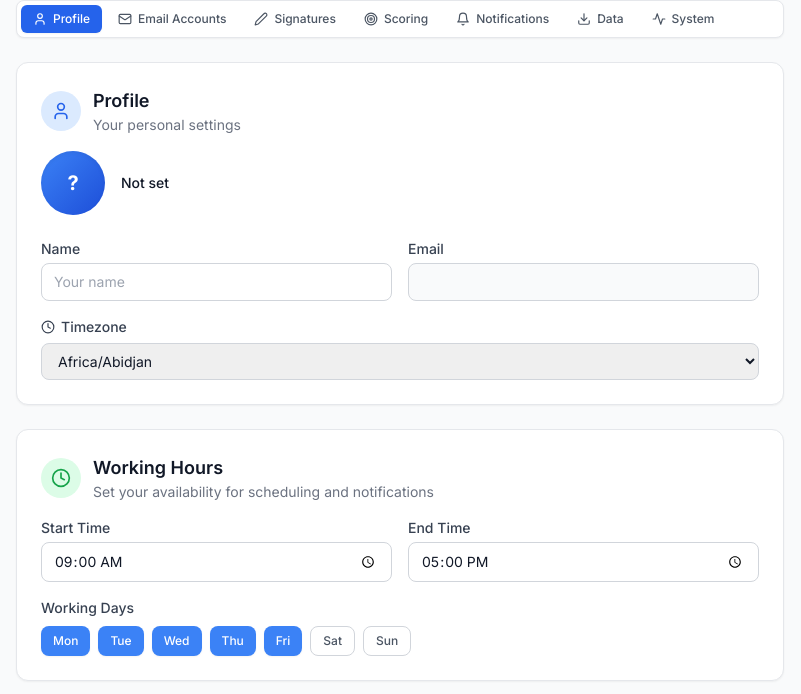
Test: Settings → Automation › renders each behaviour the server reported
Click the button "Data".
click(600, 19)  # box top-left (565, 5), bottom-right (636, 33)
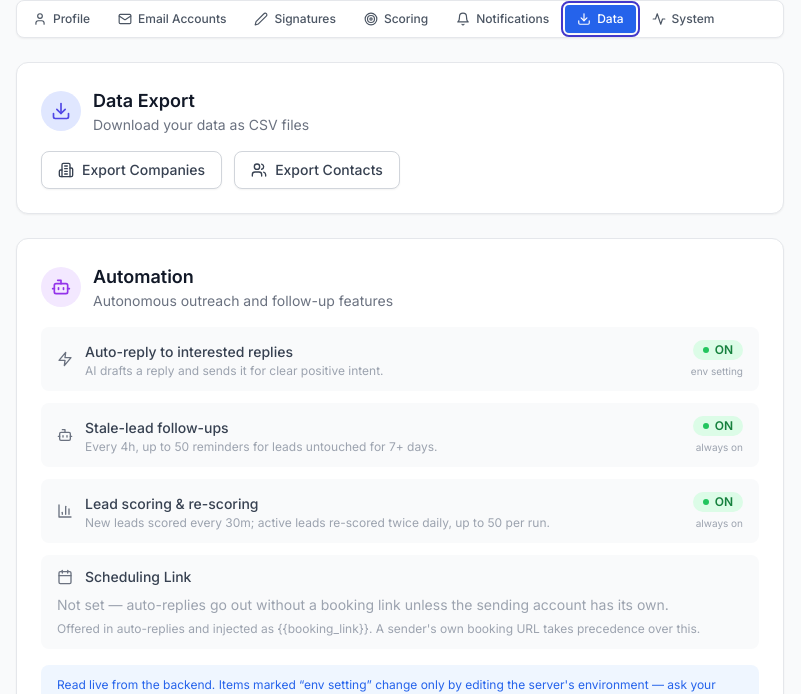
Expected: the text "Auto-reply to interested replies" is shown, top-left (85, 343), bottom-right (293, 360)
Expected: the text "Stale-lead follow-ups" is shown, top-left (85, 419), bottom-right (229, 436)
Expected: the text "Lead scoring & re-scoring" is shown, top-left (85, 495), bottom-right (258, 512)
